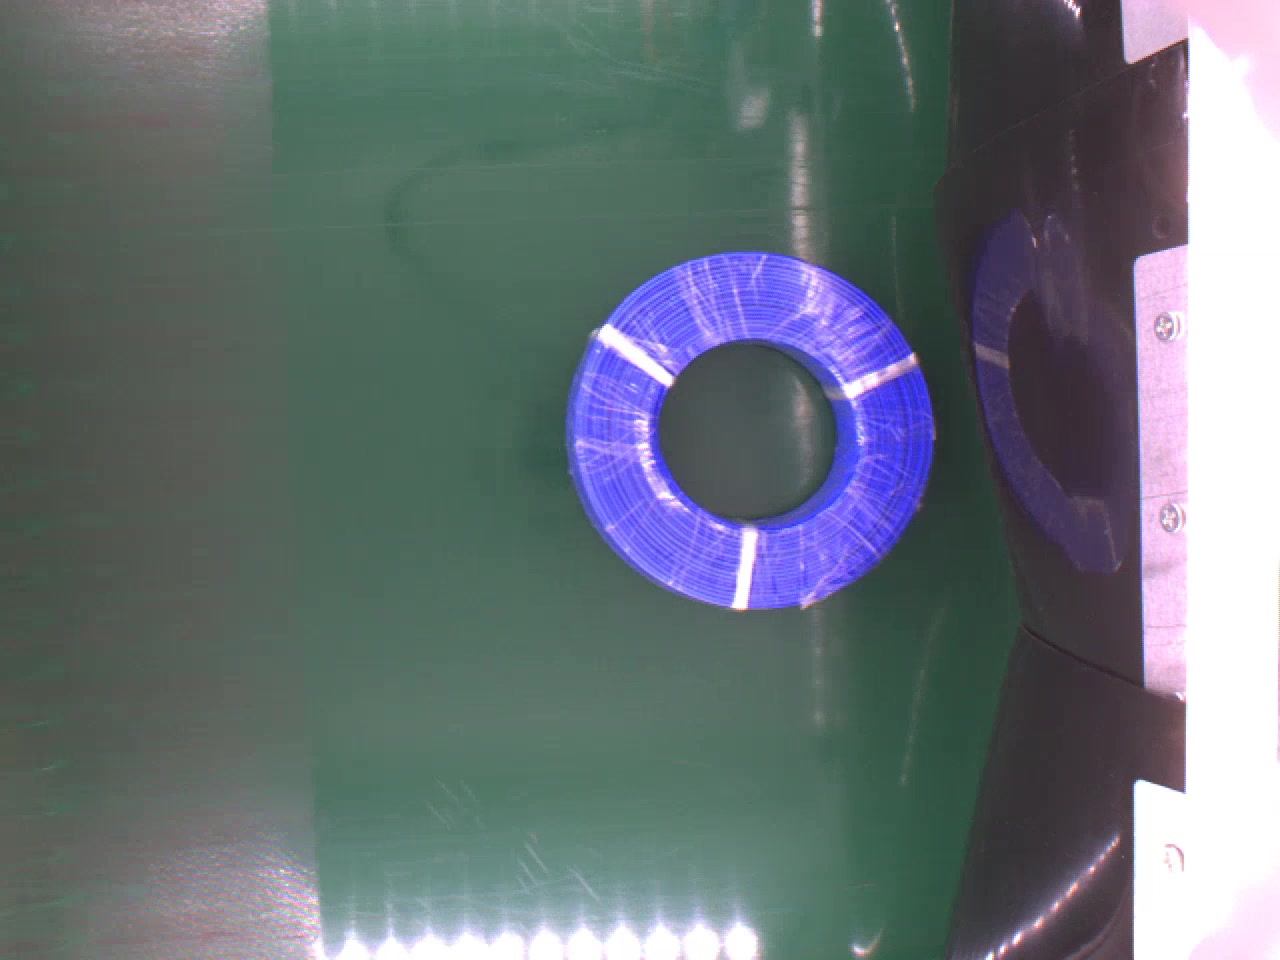blue: (563, 248, 949, 617)
